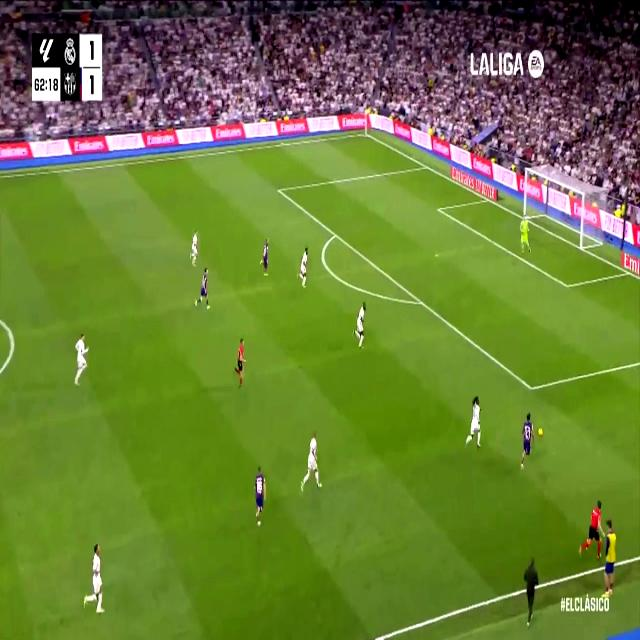bigarea_bottom_inner: (526, 376, 537, 400)
bigarea_top_inner: (275, 182, 283, 198)
bigarea_top_outter: (422, 160, 430, 172)
bottom_arc_area_intersection: (416, 293, 426, 311)
corner: (361, 128, 369, 138)
smallarea_bottom_inner: (563, 277, 571, 295)
smallarea_top_inner: (434, 202, 442, 215)
top_arc_area_intersection: (331, 226, 339, 242)
